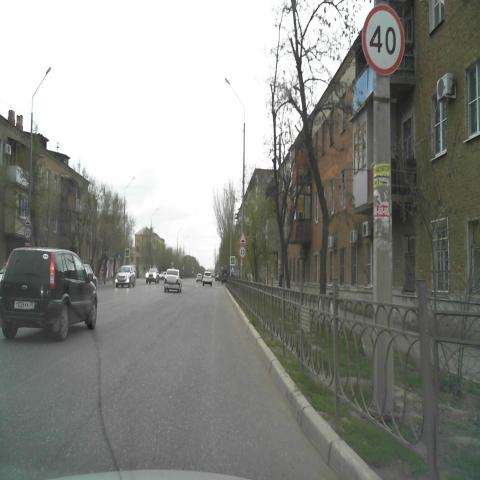1_17: (24, 214, 32, 226)
